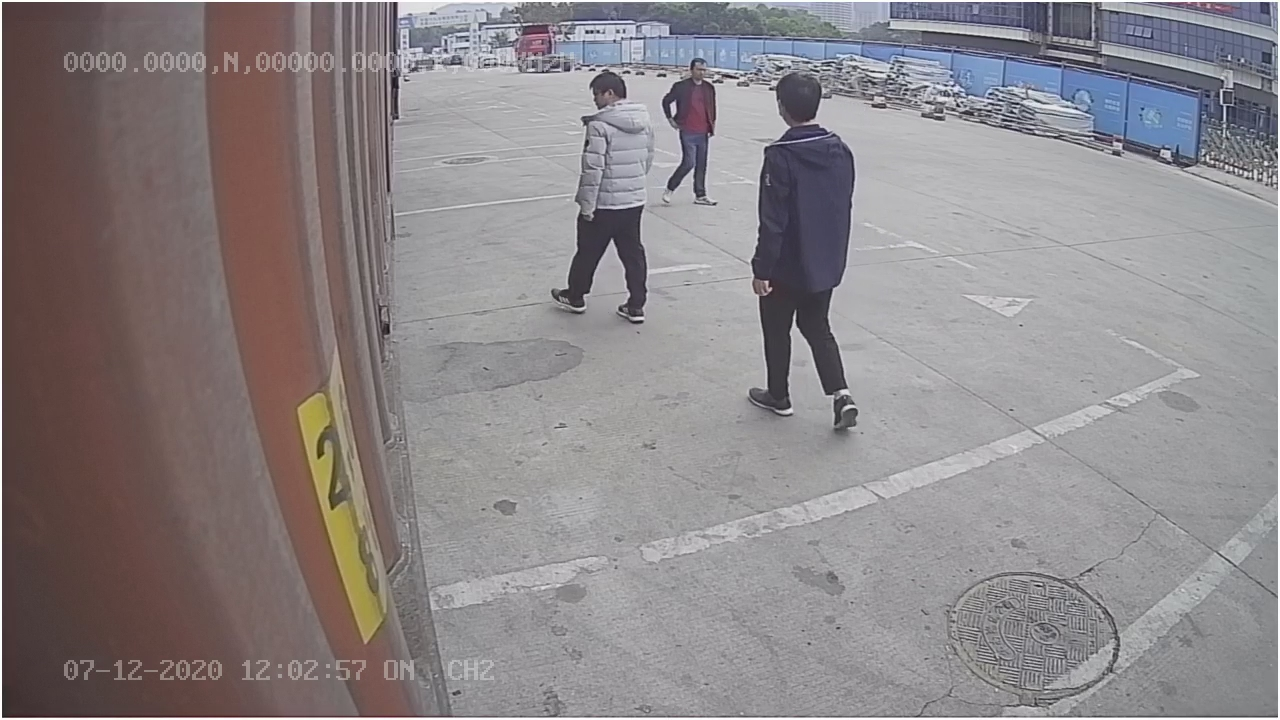person: (738, 67, 863, 434)
